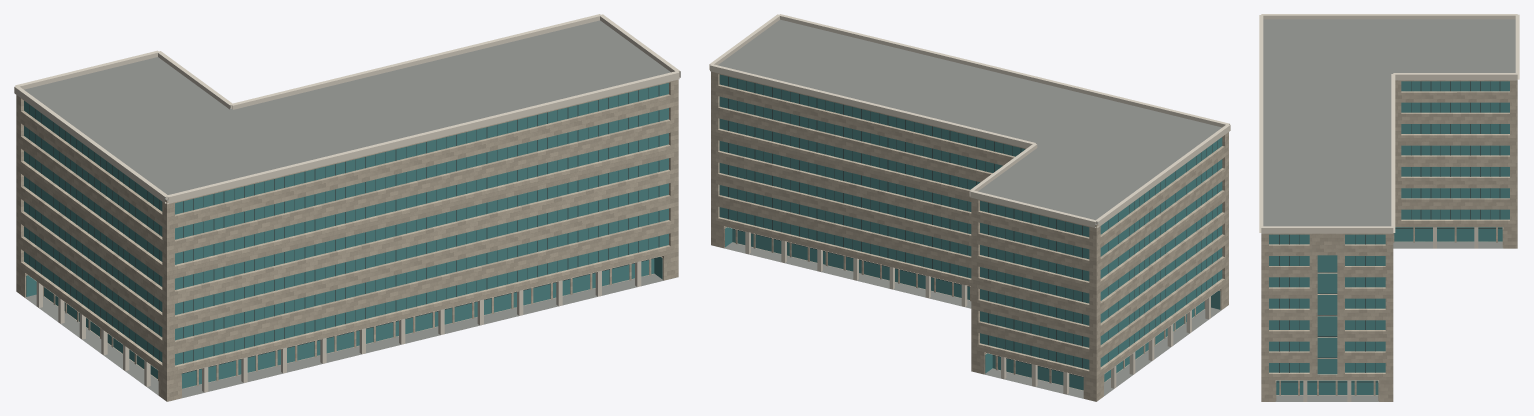
3 renders of one model, left to right at view 1: azimuth 30°, elevation 25°; view 2: azimuth 150°, elevation 25°; view 3: azimuth 270°, elevation 25°, orthographic. The views are drawn at different scales.
Parts seen in each view (by area): view 1: animalScience__wall, animalScience__glass, animalScience__roof, animalScience__trim, animalScience__frame, animalScience__column; view 2: animalScience__wall, animalScience__glass, animalScience__roof, animalScience__trim, animalScience__frame, animalScience__column; view 3: animalScience__roof, animalScience__wall, animalScience__glass, animalScience__trim, animalScience__frame, animalScience__column.
Part boxes in pixels (x1,y1,x2,y2): animalScience__wall: (16, 79, 678, 401); animalScience__glass: (24, 83, 668, 388); animalScience__roof: (17, 20, 678, 401); animalScience__trim: (14, 14, 680, 203); animalScience__frame: (29, 85, 659, 373); animalScience__column: (36, 261, 641, 392); animalScience__wall: (711, 71, 1228, 401); animalScience__glass: (719, 74, 1222, 390); animalScience__roof: (718, 19, 1224, 401); animalScience__trim: (709, 14, 1230, 227); animalScience__frame: (728, 76, 1217, 377); animalScience__column: (745, 231, 1210, 394); animalScience__roof: (1263, 19, 1515, 401); animalScience__wall: (1261, 80, 1517, 401); animalScience__glass: (1269, 81, 1509, 394); animalScience__trim: (1259, 14, 1519, 233); animalScience__frame: (1276, 81, 1502, 382); animalScience__column: (1303, 227, 1478, 401).
Size of the model in its own units: 77.26 by 29.42 by 39.72.
Materials: 7 (1 with a texture image).
